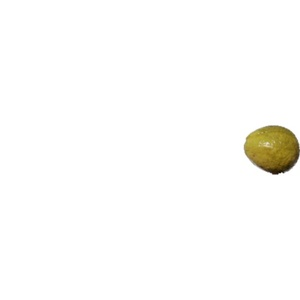goiaba: (237, 123, 299, 178)
